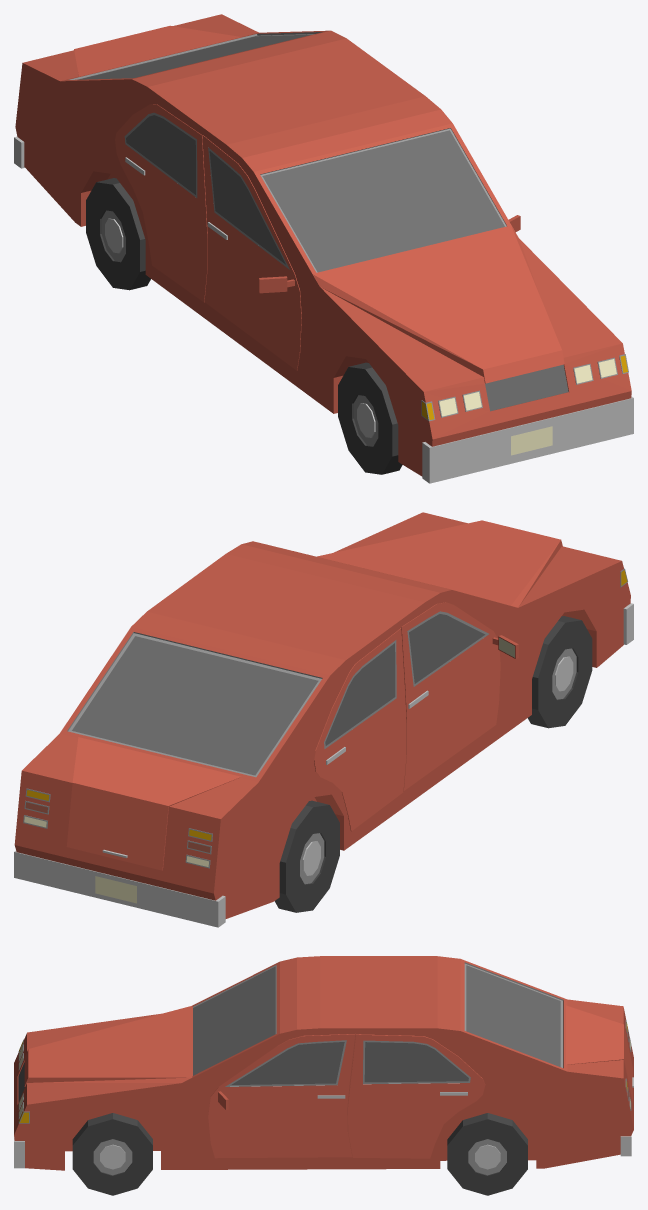
Rendered from vintage car_1.fbx.
3 renders of one model, top to bottom at view 1: azimuth 30°, elevation 25°; view 2: azimuth 150°, elevation 25°; view 3: azimuth 270°, elevation 25°, orthographic. The views are drawn at different scales.
Parts seen in each view (by area): view 1: utrbn, Cylinder_2_1, Cylinder_2_9; view 2: utrbn, Cylinder_2_9, Cylinder_2_1; view 3: utrbn, Cylinder_2_8, Cylinder_2.
Part boxes in pixels (left/top/right/bottom): utrbn: left=14, top=14, right=633, bottom=483; Cylinder_2_1: left=338, top=362, right=402, bottom=474; Cylinder_2_9: left=86, top=178, right=150, bottom=290; utrbn: left=14, top=512, right=633, bottom=927; Cylinder_2_9: left=274, top=800, right=339, bottom=912; Cylinder_2_1: left=528, top=616, right=592, bottom=728; utrbn: left=14, top=956, right=633, bottom=1170; Cylinder_2_8: left=447, top=1113, right=527, bottom=1195; Cylinder_2: left=72, top=1113, right=152, bottom=1195.
Bounding box in the file's own units: 169 × 139 × 468.
